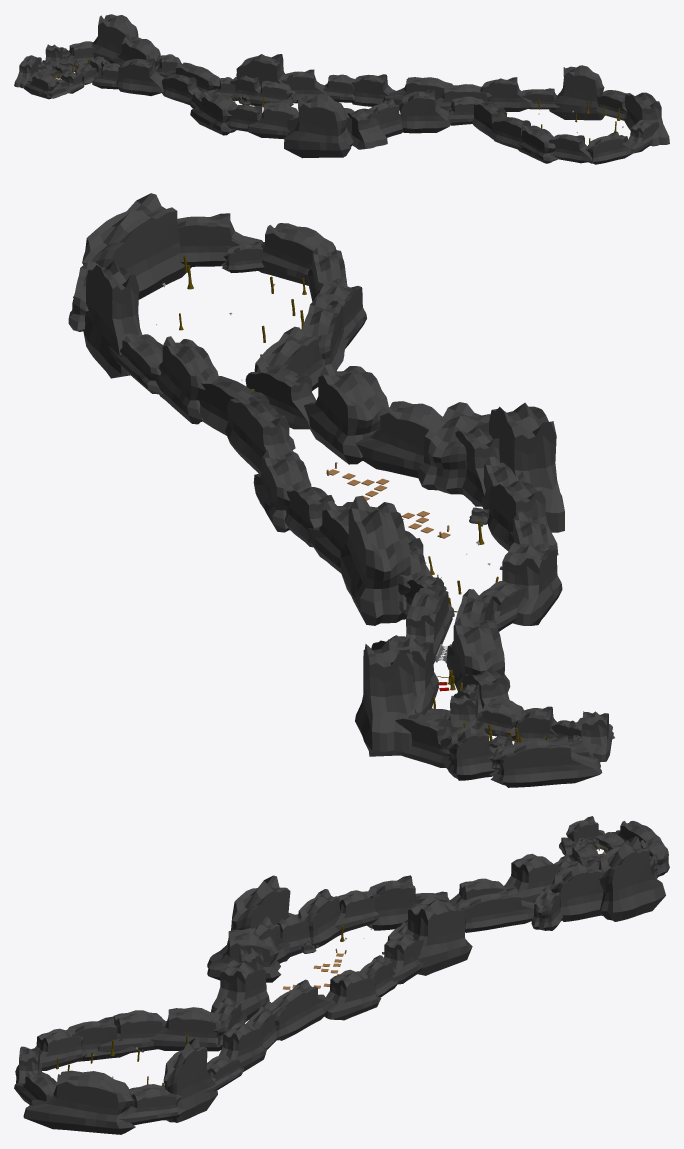
Rendered from JungleGraybox_TestMap.fbx.
The picture shows the model from 3 angles, top to bottom: view 1: azimuth 30°, elevation 25°; view 2: azimuth 150°, elevation 25°; view 3: azimuth 270°, elevation 25°; orthographic projection. The views are drawn at different scales.
Parts seen in each view (by area): view 1: Mountain_60, Mountain_53, Mountain_43, Mountain_25, Mountain_20, Mountain_33, Mountain_57, Mountain_37, Mountain_47, Mountain_61, Mountain_49, Mountain_42 (+29 smaller); view 2: Mountain_47, Mountain_57, Mountain_43, Mountain_20, Mountain_60, Mountain_53, Mountain_09, Mountain_41, Mountain_61, Mountain_49, Mountain_33, Mountain_44 (+29 smaller); view 3: Mountain_57, Mountain_20, Mountain_47, Mountain_53, Mountain_26, Mountain_28, Mountain_48, Mountain_44, Mountain_60, Mountain_43, Mountain_42, Mountain_61 (+23 smaller).
Boxes of the visible parts, x1,y1,x2,y2 form: Mountain_60: (284,93,353,158); Mountain_53: (549,65,604,120); Mountain_43: (398,88,450,133); Mountain_25: (116,58,164,95); Mountain_20: (92,14,138,61); Mountain_33: (190,91,237,135); Mountain_57: (624,92,669,146); Mountain_37: (247,102,298,138); Mountain_47: (236,54,296,105); Mountain_61: (347,108,387,149); Mountain_49: (480,77,533,111); Mountain_42: (351,74,395,106); Mountain_47: (340,495,410,625); Mountain_57: (73,193,191,299); Mountain_43: (304,364,388,464); Mountain_20: (355,639,416,756); Mountain_60: (489,402,564,532); Mountain_53: (83,260,142,378); Mountain_09: (489,735,602,787); Mountain_41: (356,401,442,477); Mountain_61: (417,402,490,494); Mountain_49: (155,336,219,424); Mountain_33: (502,542,562,625); Mountain_44: (225,397,293,473); Mountain_57: (23,1070,135,1134); Mountain_20: (599,836,665,921); Mountain_47: (405,897,472,975); Mountain_53: (163,1037,217,1122); Mountain_26: (549,859,603,921); Mountain_28: (455,887,534,932); Mountain_48: (150,1007,222,1051); Mountain_44: (268,979,332,1040); Mountain_60: (227,875,290,961); Mountain_43: (211,960,269,1021); Mountain_42: (324,969,381,1020); Mountain_61: (207,928,281,982).
Size of the model in its own units: 26680 by 3415 by 25285.
